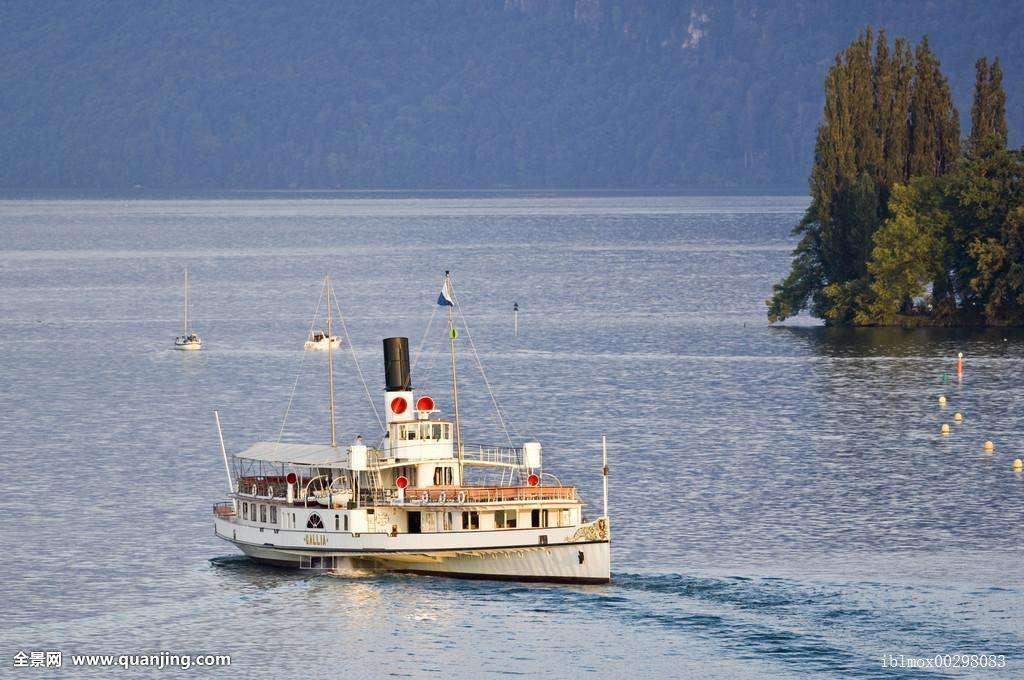otherboat: (199, 332, 623, 584), (163, 328, 205, 357), (303, 333, 340, 357)
